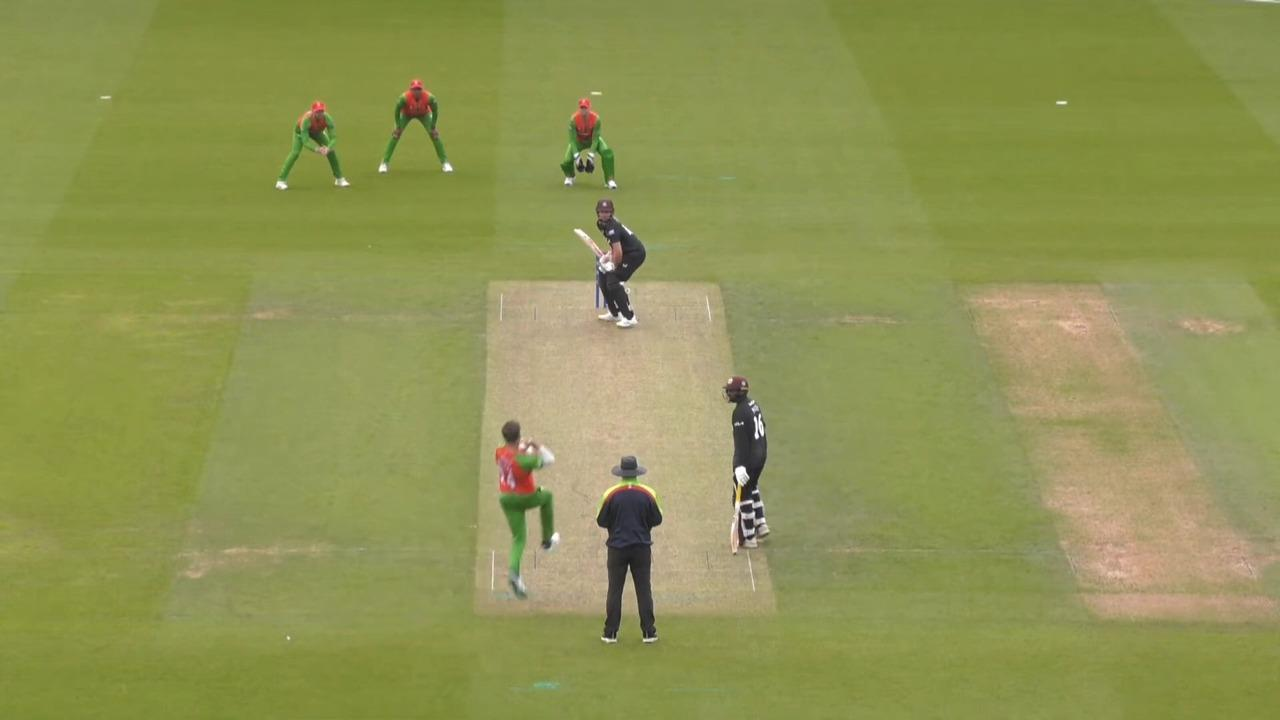sports ball: (519, 443, 525, 448)
